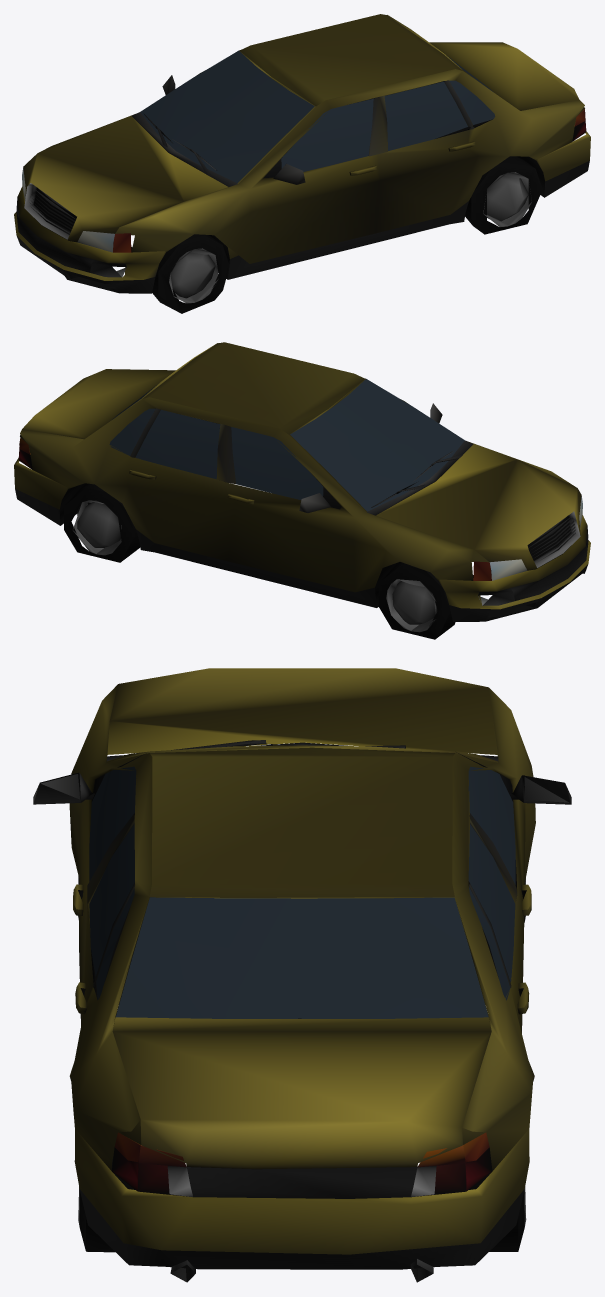
Rendered from sedan.glb.
3 renders of one model, top to bottom at view 1: azimuth 30°, elevation 25°; view 2: azimuth 150°, elevation 25°; view 3: azimuth 270°, elevation 25°, orthographic. The views are drawn at different scales.
Visible parts, largest first — view 1: sedan; view 2: sedan; view 3: sedan.
Part boxes in pixels (x1=…): sedan: x1=14, y1=14, x2=590, y2=313; sedan: x1=14, y1=342, x2=590, y2=639; sedan: x1=33, y1=668, x2=571, y2=1282.
Size of the model in its own units: 4.59 by 1.36 by 2.05.
